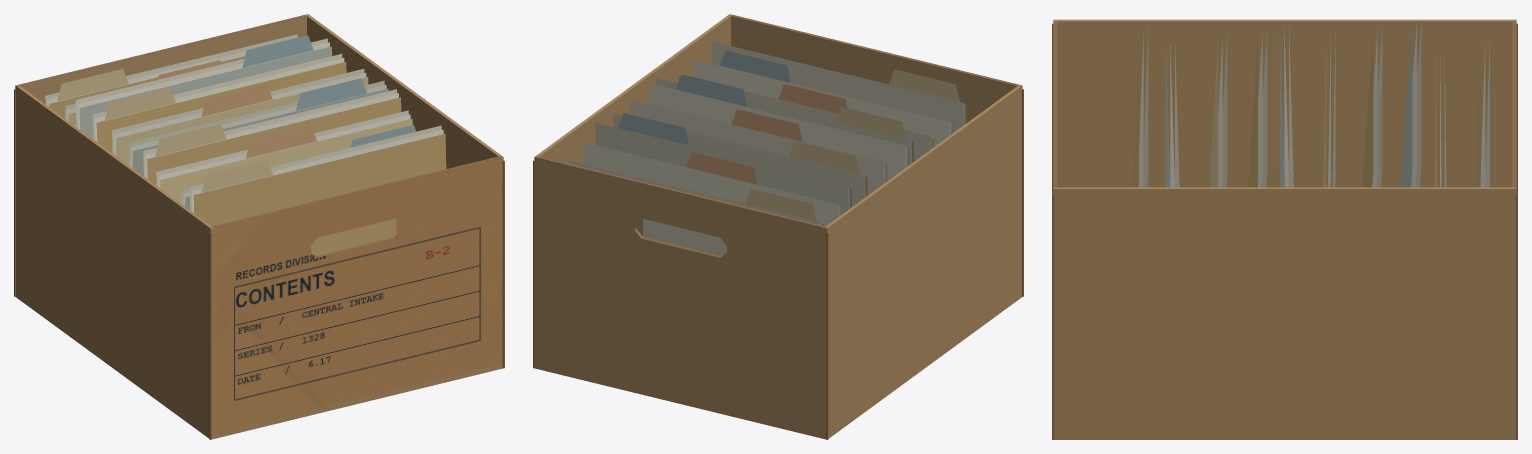
The model's file is case_B.gltf.
The picture shows the model from 3 angles, left to right: view 1: azimuth 30°, elevation 25°; view 2: azimuth 150°, elevation 25°; view 3: azimuth 270°, elevation 25°; orthographic projection. The views are drawn at different scales.
Parts seen in each view (by area): view 1: TransferCaseB; view 2: TransferCaseB; view 3: TransferCaseB.
Part boxes in pixels (x1,y1,x2,y2): TransferCaseB: [14, 14, 504, 439]; TransferCaseB: [533, 14, 1023, 439]; TransferCaseB: [1052, 19, 1517, 439].
Size of the model in its own units: 0.35 by 0.2654 by 0.404.
Materials: 11 (1 with a texture image).
